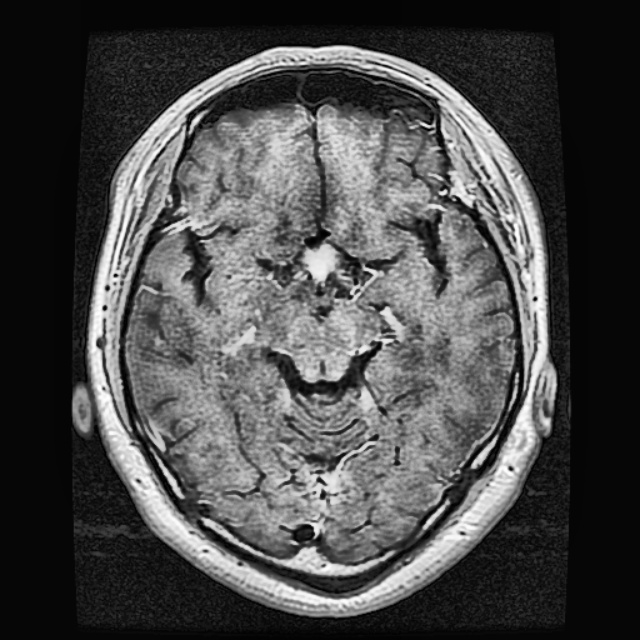Pituitary: (300, 238, 347, 282)
